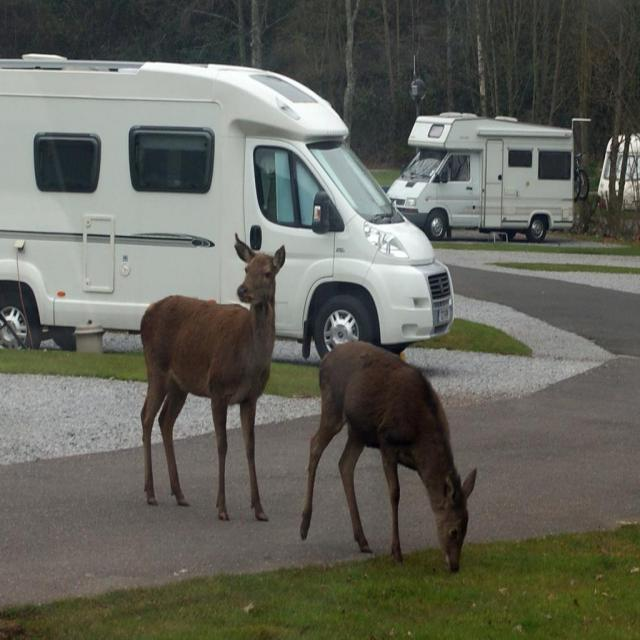Deer: (138, 234, 286, 522), (298, 339, 476, 572)
